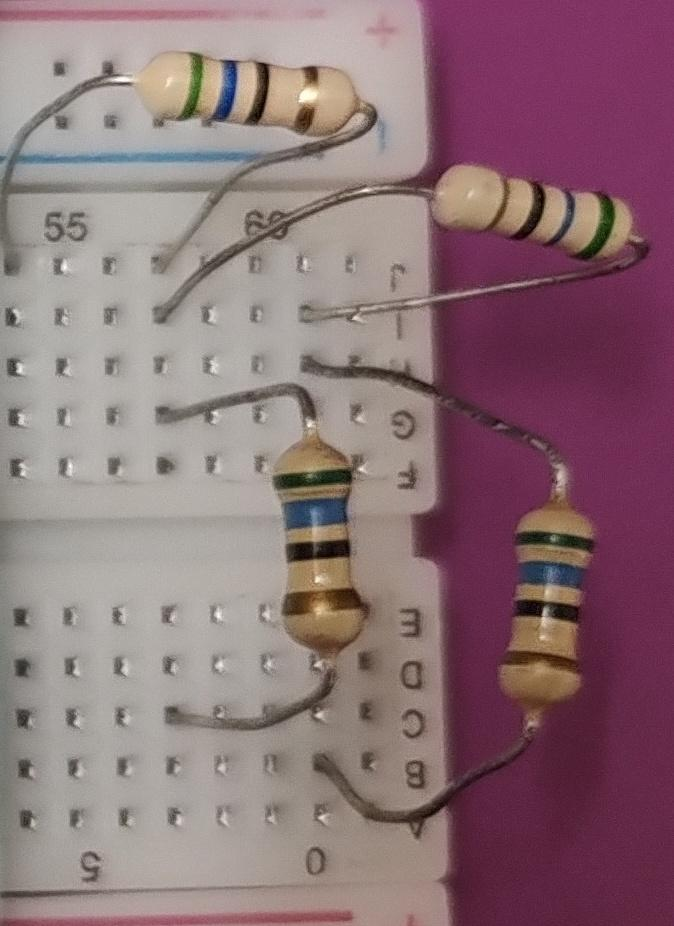resistor: (248, 430, 398, 660), (120, 40, 367, 162), (488, 475, 600, 740), (425, 148, 650, 277)
